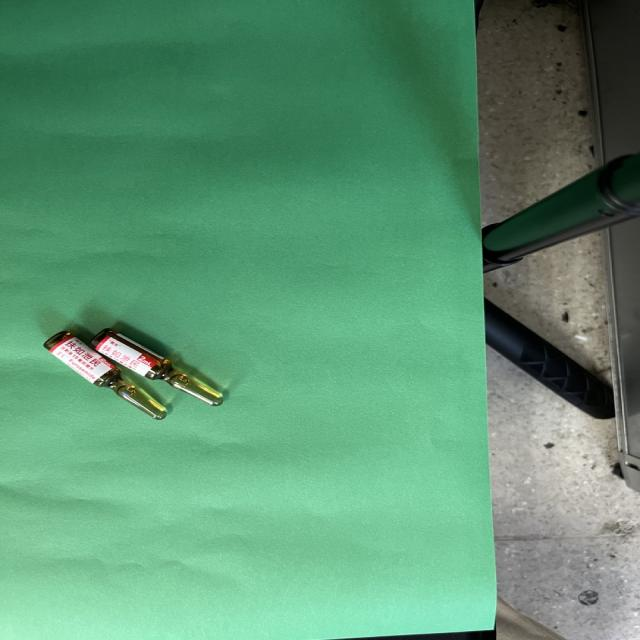Ampoules: (45, 329, 222, 420)
